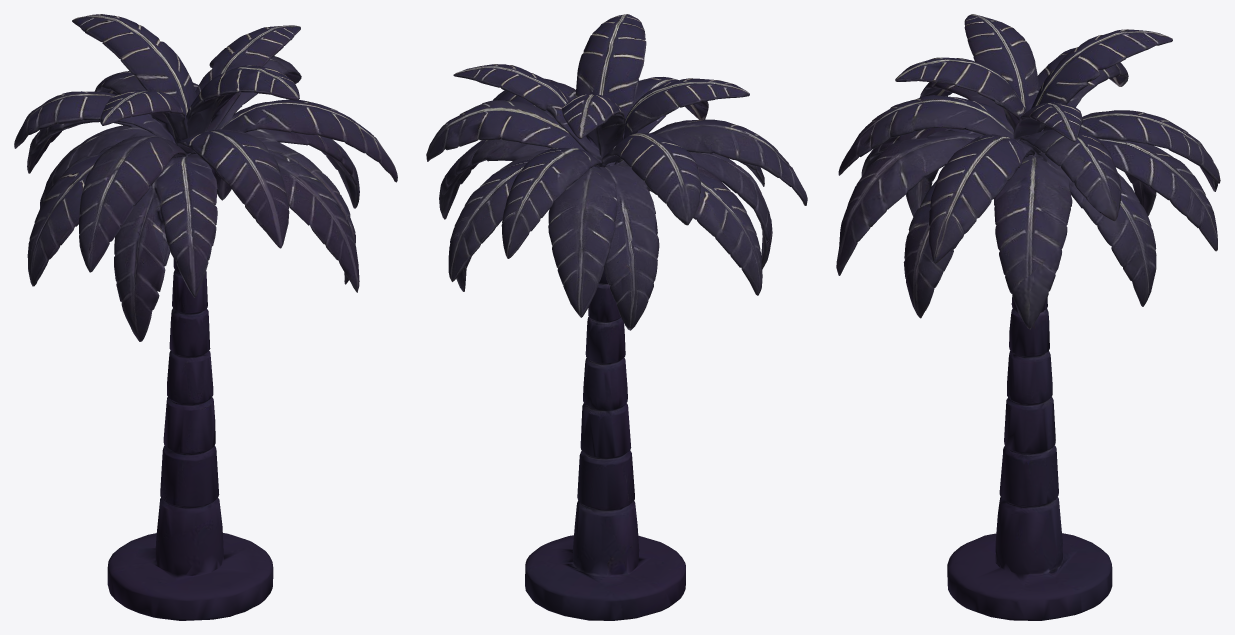
Rendered from nsPinkPalm.bf0a8ea1.glb.
3 views of the same model, side by side, from view 1: azimuth 30°, elevation 25°; view 2: azimuth 150°, elevation 25°; view 3: azimuth 270°, elevation 25° (orthographic). The views are drawn at different scales.
Bounding box in the file's own units: 1.21 × 1.9 × 1.22.
1 material, 1 textured.
